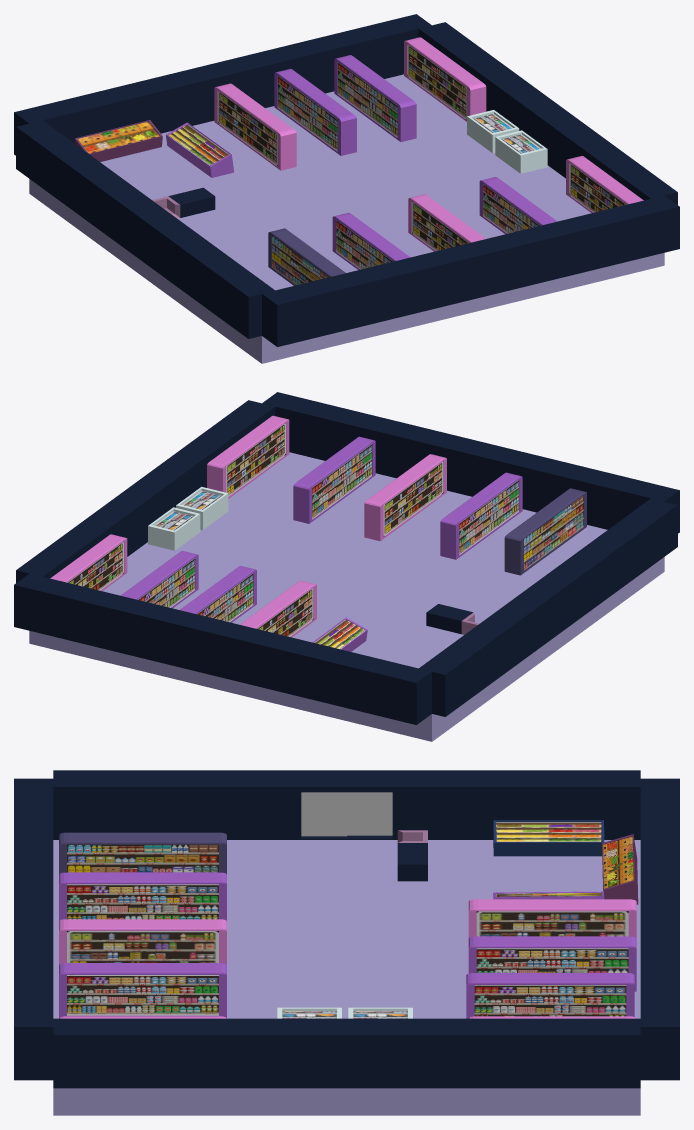
File: Supermarkt-GameJam.fbx
3 views of the same model, one above another, from view 1: azimuth 30°, elevation 25°; view 2: azimuth 150°, elevation 25°; view 3: azimuth 270°, elevation 25° (orthographic). The views are drawn at different scales.
Parts seen in each view (by area): view 1: Wände, Boden, Regal2.001, Regal3.003, Regal2.003, Regal3.002, Regal2, Regal2.002, Regal3, Regal1, Regal3.001, Obst2 (+4 smaller); view 2: Wände, Boden, Regal2, Regal3, Regal2.002, Regal1, Regal3.001, Regal2.003, Regal3.002, Regal2.001, Regal3.003, freezer2 (+3 smaller); view 3: Wände, Boden, Regal2.002, Regal2, Regal2.003, Regal3, Regal1, Regal3.003, Regal2.001, Obst, Obst2, Kasse (+3 smaller).
Part boxes in pixels (bbox=[...]): Wände: bbox=[14, 14, 679, 346]; Boden: bbox=[29, 74, 664, 363]; Regal2.001: bbox=[274, 68, 356, 155]; Regal3.003: bbox=[214, 83, 296, 170]; Regal2.003: bbox=[334, 55, 416, 141]; Regal3.002: bbox=[404, 37, 486, 121]; Regal2: bbox=[332, 212, 410, 269]; Regal2.002: bbox=[479, 177, 557, 234]; Regal3: bbox=[408, 194, 485, 251]; Regal1: bbox=[268, 228, 345, 285]; Regal3.001: bbox=[566, 156, 643, 212]; Obst2: bbox=[74, 120, 162, 161]; Wände: bbox=[14, 392, 679, 724]; Boden: bbox=[29, 452, 664, 741]; Regal2: bbox=[440, 472, 522, 559]; Regal3: bbox=[364, 454, 446, 541]; Regal2.002: bbox=[293, 436, 375, 523]; Regal1: bbox=[504, 488, 586, 575]; Regal3.001: bbox=[207, 415, 289, 498]; Regal2.003: bbox=[121, 551, 198, 608]; Regal3.002: bbox=[50, 534, 127, 590]; Regal2.001: bbox=[180, 566, 256, 622]; Regal3.003: bbox=[240, 580, 316, 637]; freezer2: bbox=[148, 507, 200, 550]; Wände: bbox=[14, 770, 679, 1088]; Boden: bbox=[53, 840, 640, 1115]; Regal2.002: bbox=[59, 963, 226, 1017]; Regal2: bbox=[59, 872, 226, 920]; Regal2.003: bbox=[466, 973, 634, 1018]; Regal3: bbox=[59, 919, 226, 964]; Regal1: bbox=[59, 832, 226, 873]; Regal3.003: bbox=[468, 899, 636, 937]; Regal2.001: bbox=[468, 936, 636, 991]; Obst: bbox=[493, 820, 604, 856]; Obst2: bbox=[602, 834, 638, 904]; Kasse: bbox=[397, 830, 427, 881].
Bounding box in the file's own units: 3200 × 500 × 3400.
Materials: 29 (29 with a texture image).
